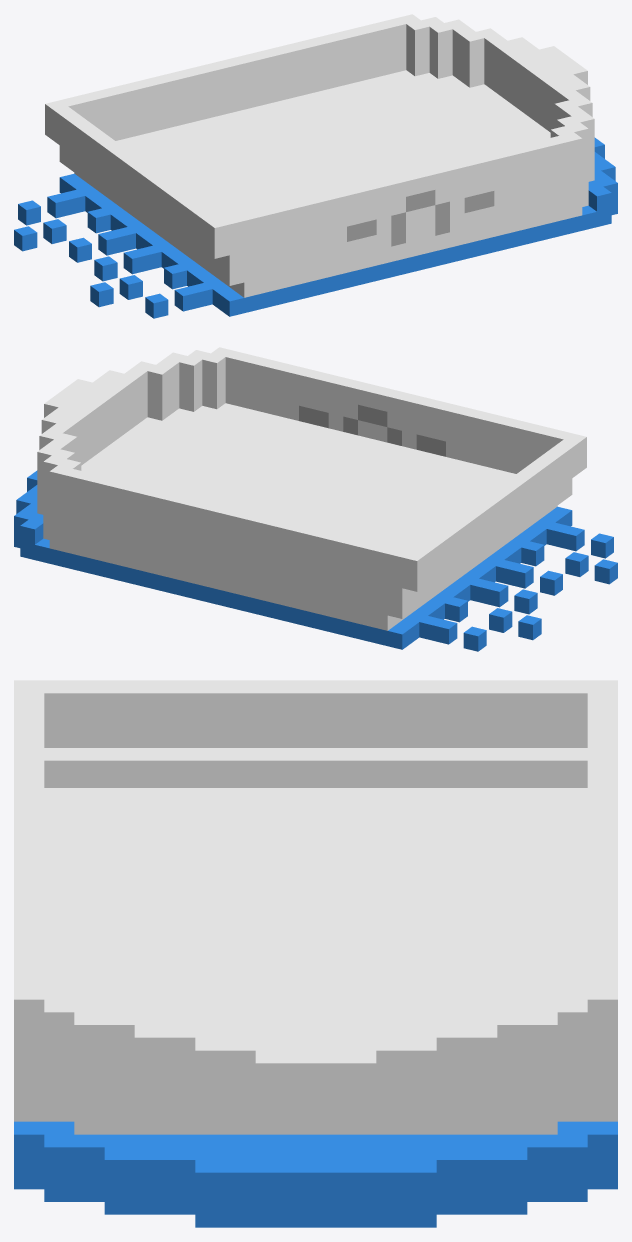
3 views of the same model, one above another, from view 1: azimuth 30°, elevation 25°; view 2: azimuth 150°, elevation 25°; view 3: azimuth 270°, elevation 25° (orthographic). The views are drawn at different scales.
Visible parts, largest first — view 1: 35; view 2: 35; view 3: 35.
Boxes of the visible parts, x1,y1,x2,y2 form: 35: [14, 14, 617, 318]; 35: [14, 347, 617, 651]; 35: [14, 680, 617, 1227].
Size of the model in its own units: 3.5 by 0.6 by 2.
2 materials, 2 textured.
